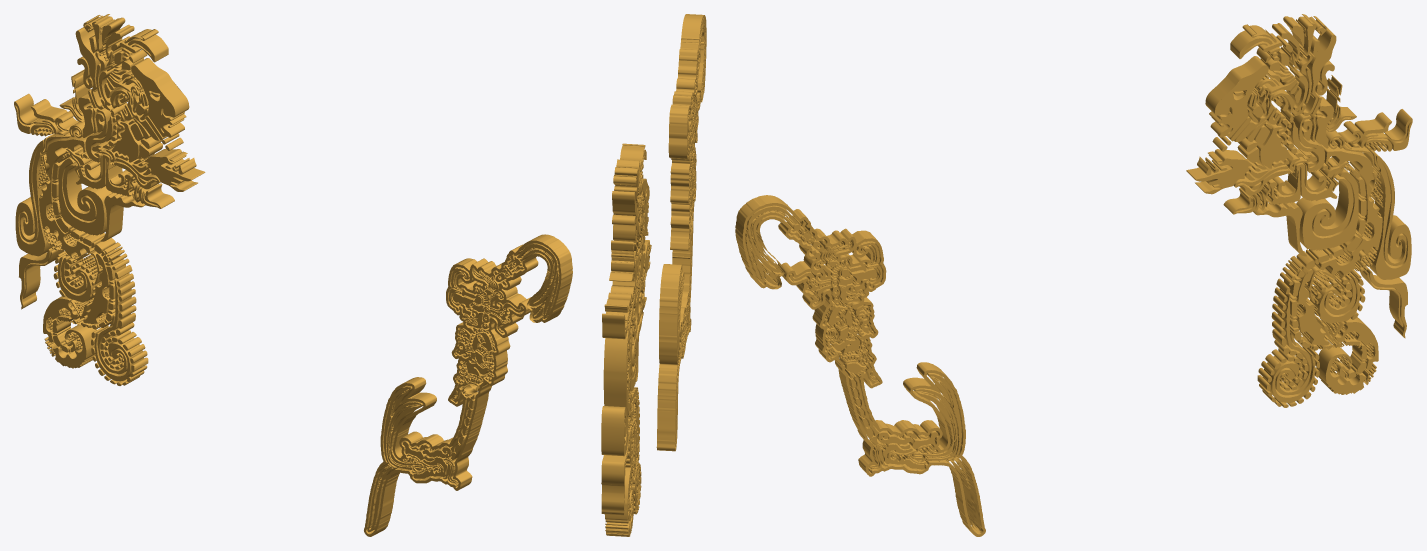
The model's file is dmartgoldwall.glb.
The picture shows the model from 3 angles, left to right: view 1: azimuth 30°, elevation 25°; view 2: azimuth 150°, elevation 25°; view 3: azimuth 270°, elevation 25°; orthographic projection. The views are drawn at different scales.
Visible parts, largest first — view 1: Selection.007, Selection #2.003; view 2: Selection.007, Selection #2.003; view 3: Selection.007, Selection #2.003.
Part boxes in pixels (x1=…): Selection.007: x1=14, y1=14, x2=205, y2=385; Selection #2.003: x1=364, y1=234, x2=572, y2=536; Selection.007: x1=601, y1=143, x2=651, y2=536; Selection #2.003: x1=656, y1=14, x2=706, y2=451; Selection.007: x1=1186, y1=14, x2=1412, y2=407; Selection #2.003: x1=735, y1=195, x2=985, y2=536.
Bounding box in the file's own units: 0.2806 × 0.4674 × 0.6301.
